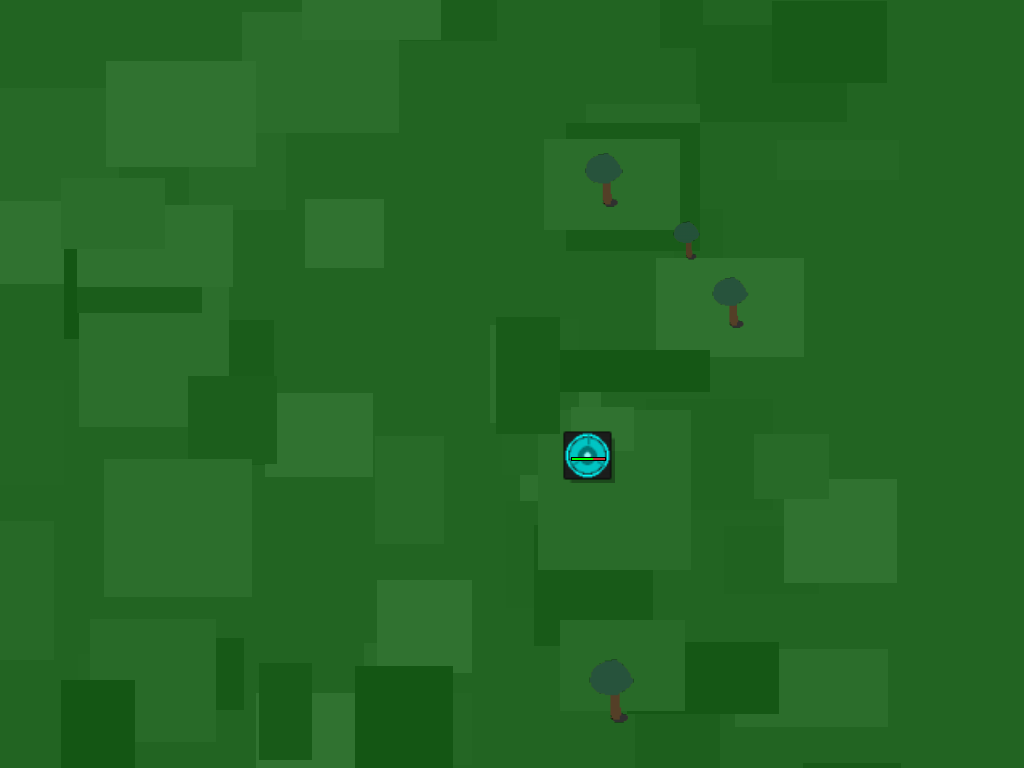LaserTurret: (553, 421, 623, 491)
